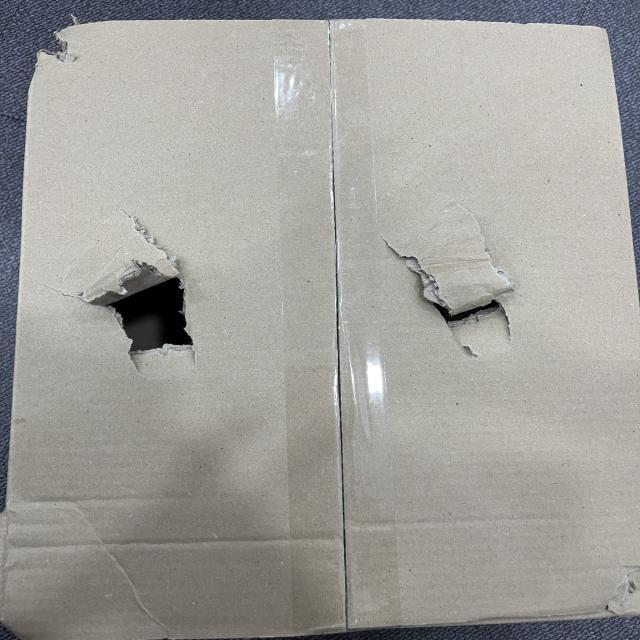hole: (71, 256, 202, 372), (416, 286, 530, 365)
